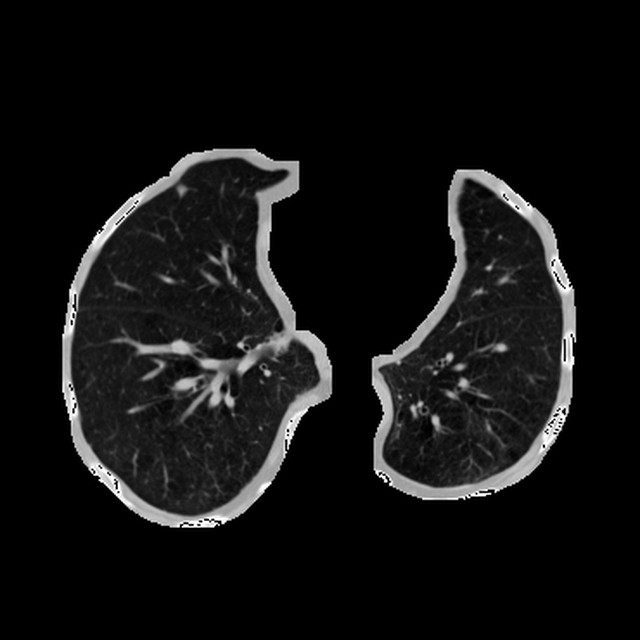PN: (176, 185, 187, 195)
